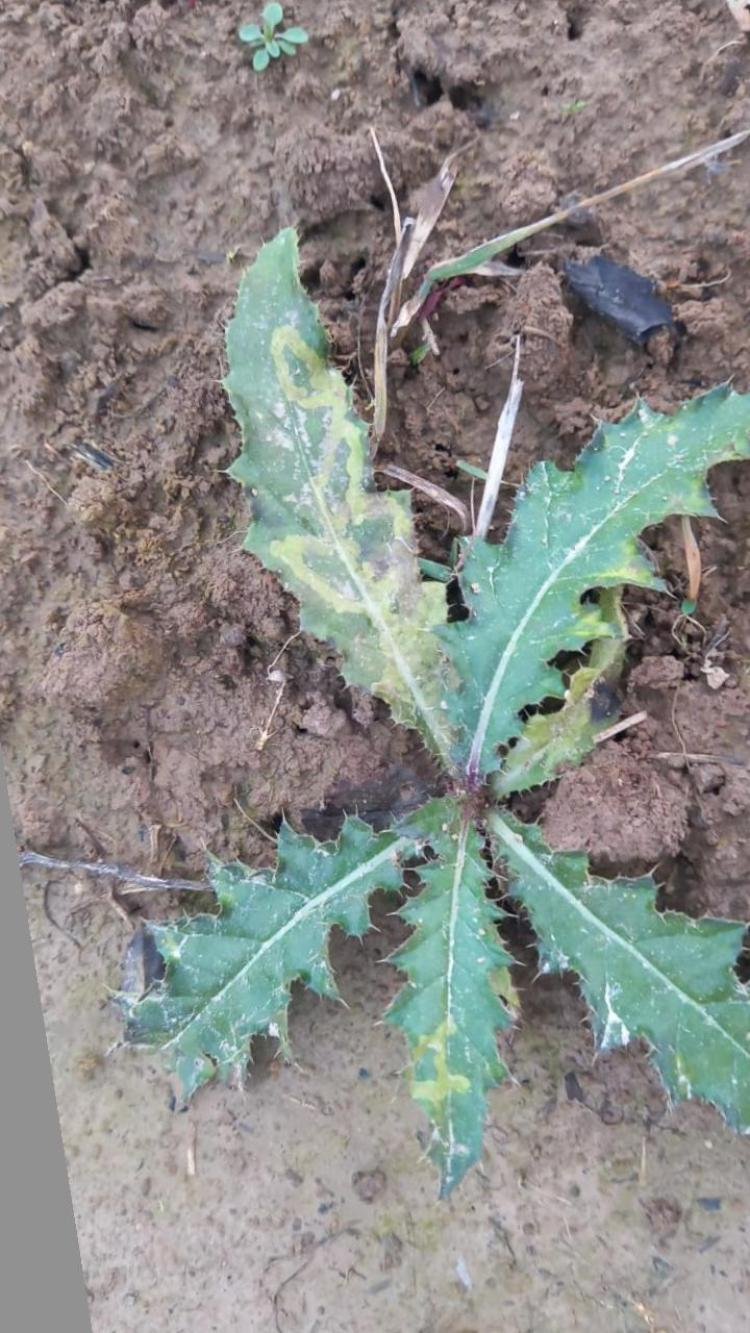osot: (104, 215, 750, 1208)
